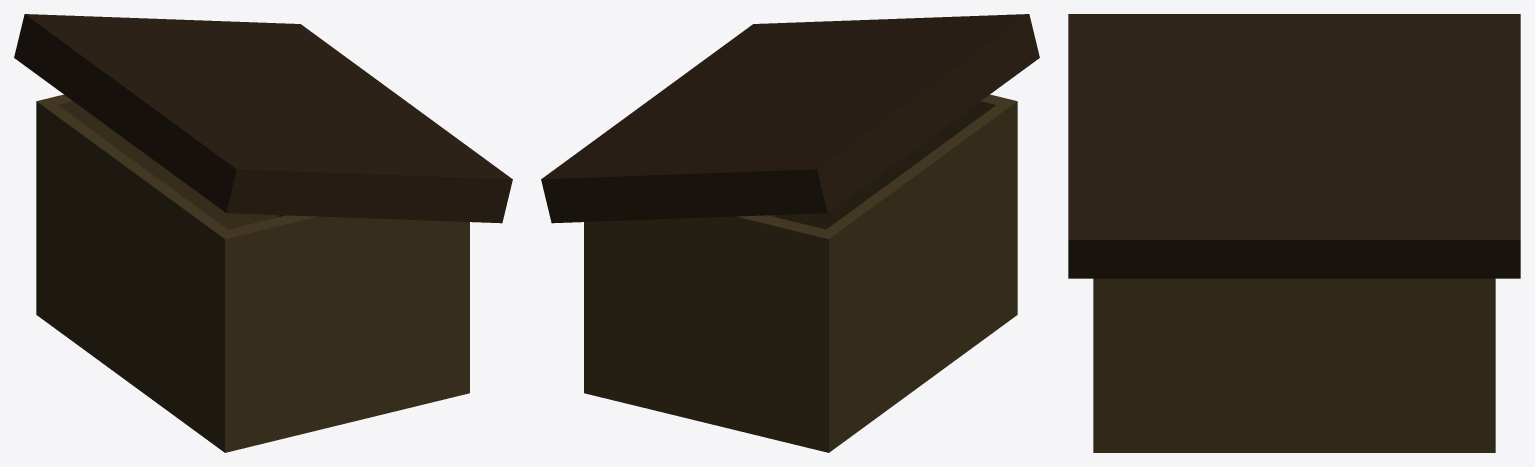
Rendered from 隠れ場所.fbx.
3 renders of one model, left to right at view 1: azimuth 30°, elevation 25°; view 2: azimuth 150°, elevation 25°; view 3: azimuth 270°, elevation 25°, orthographic. The views are drawn at different scales.
Parts seen in each view (by area): view 1: Cube, Cube.001; view 2: Cube, Cube.001; view 3: Cube.001, Cube.
Part boxes in pixels (x1=…): Cube: x1=36, y1=94, x2=469, y2=452; Cube.001: x1=14, y1=14, x2=512, y2=223; Cube: x1=584, y1=94, x2=1017, y2=452; Cube.001: x1=541, y1=14, x2=1039, y2=223; Cube.001: x1=1068, y1=14, x2=1520, y2=278; Cube: x1=1093, y1=278, x2=1495, y2=452.
Bounding box in the file's own units: 1.4 × 1.37 × 1.8.
